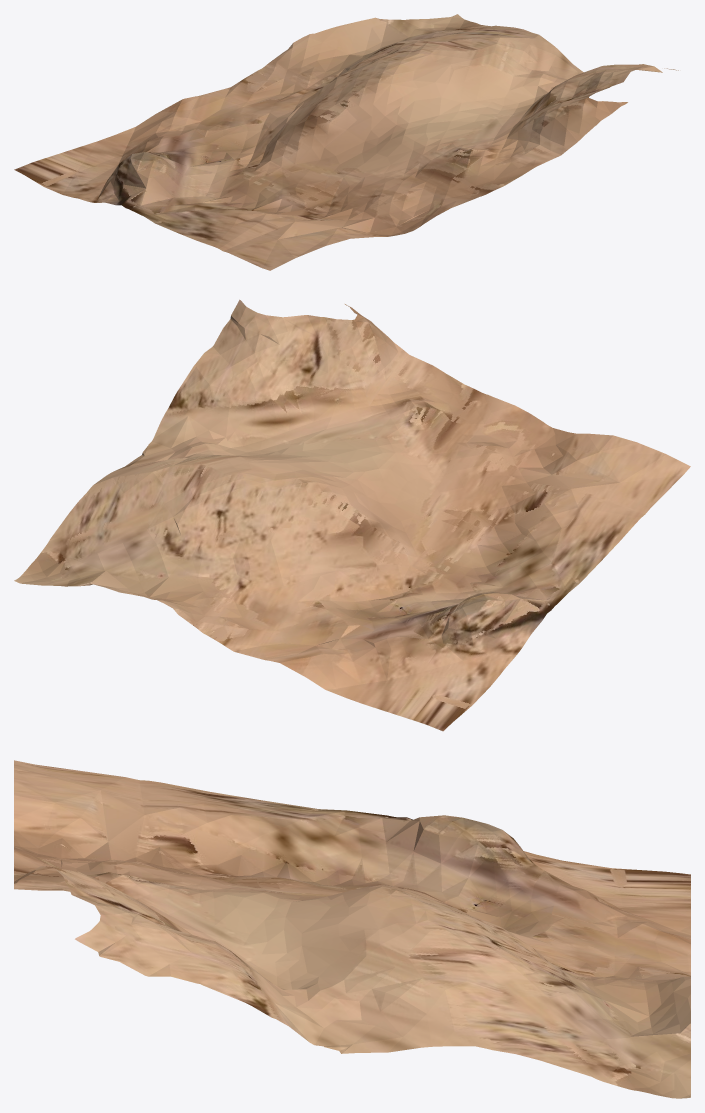
3 renders of one model, top to bottom at view 1: azimuth 30°, elevation 25°; view 2: azimuth 150°, elevation 25°; view 3: azimuth 270°, elevation 25°, orthographic. The views are drawn at different scales.
Bounding box in the file's own units: 1.04 × 0.3771 × 1.04.
Materials: 2 (2 with a texture image).
